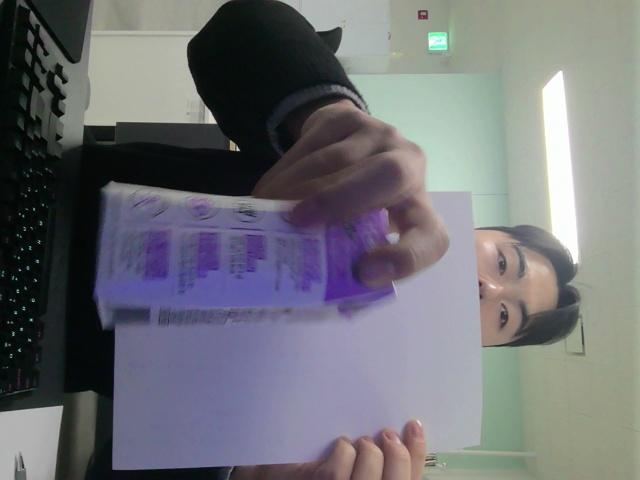milk: (95, 182, 394, 328)
